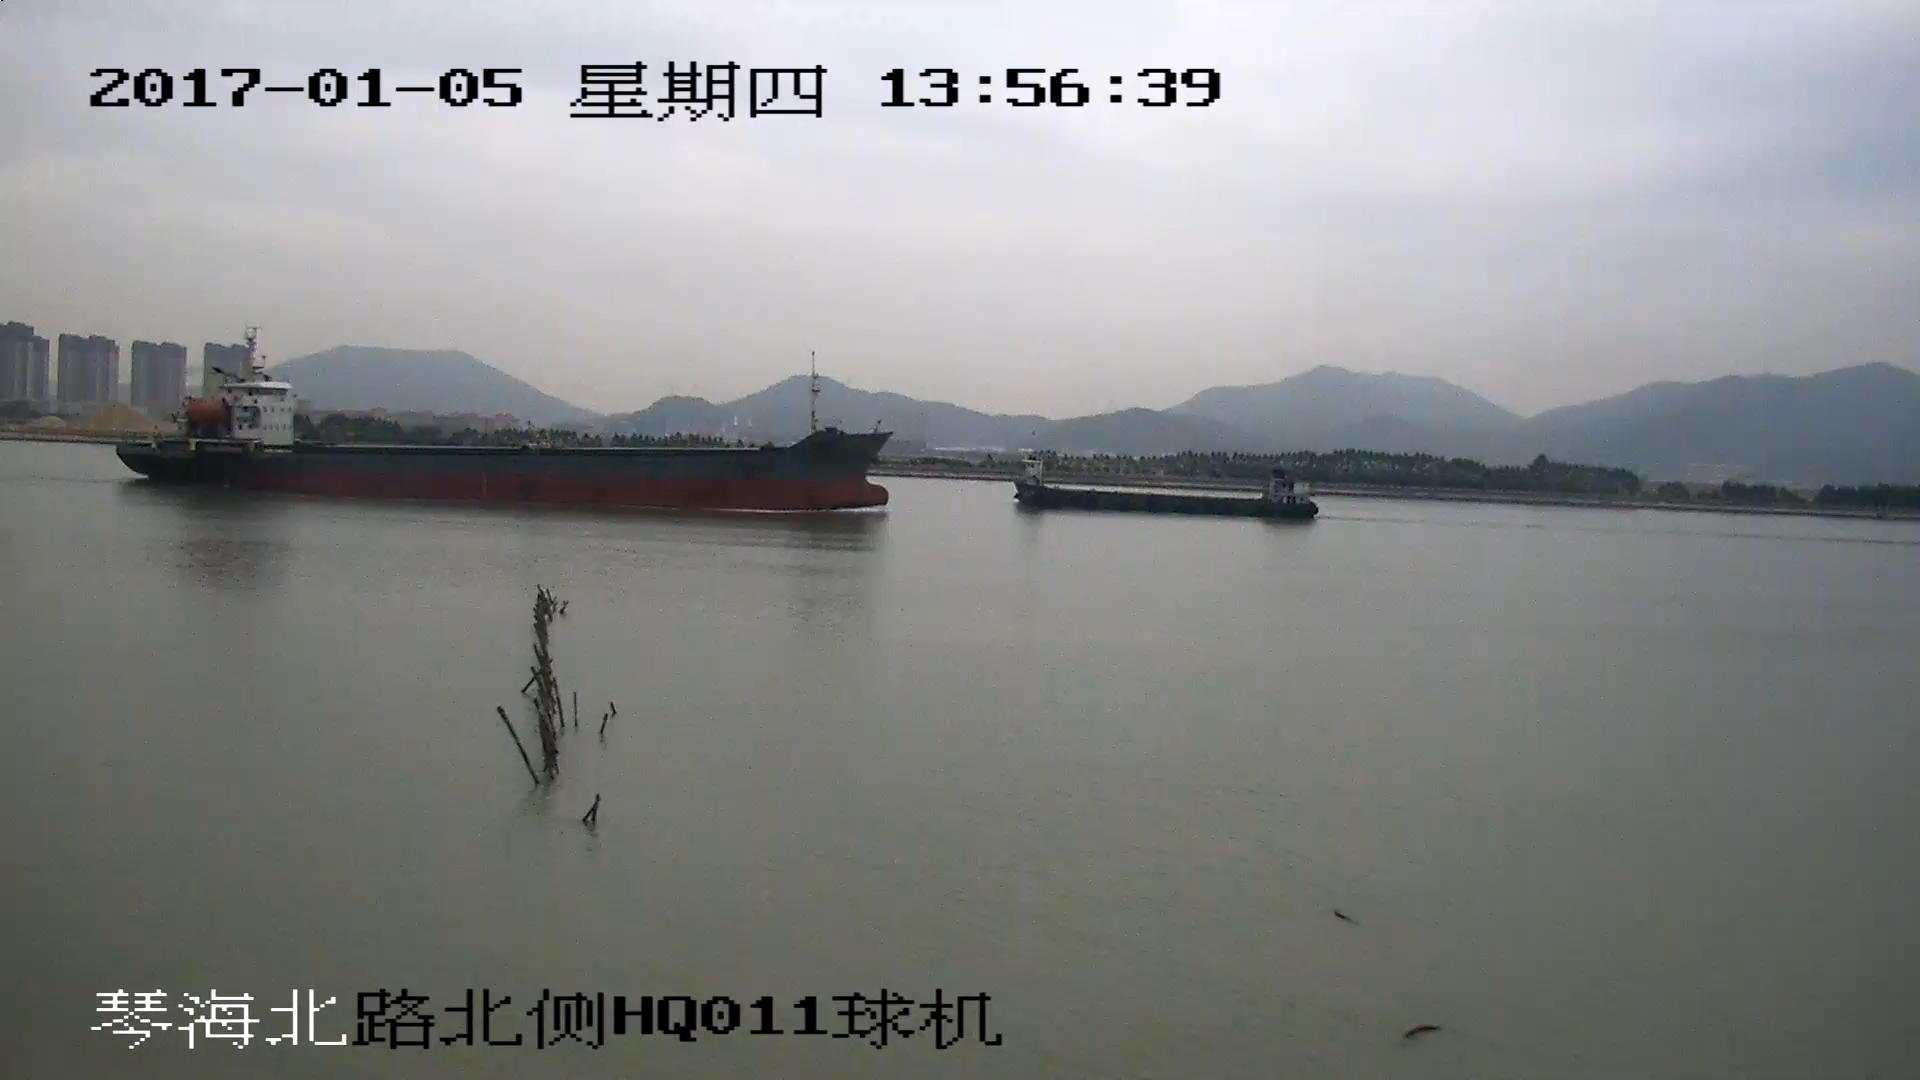general cargo ship: (125, 335, 888, 516), (1019, 455, 1316, 524)
